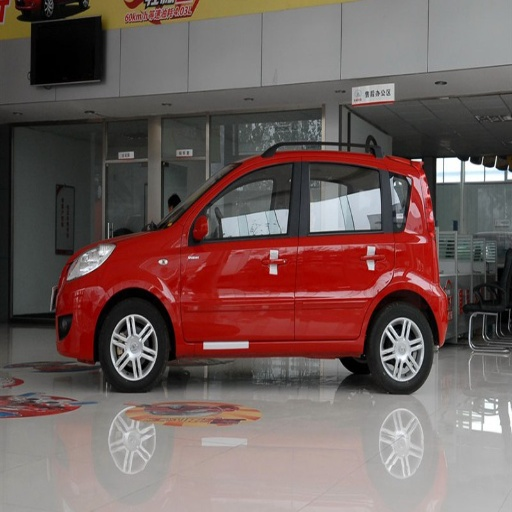front_left_door: (181, 158, 301, 339)
